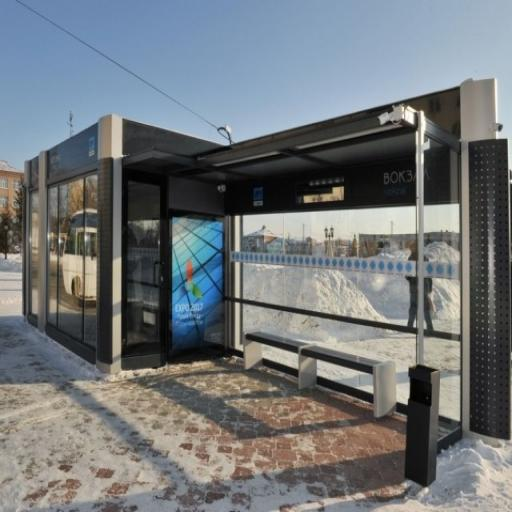bicycle: (23, 79, 512, 446)
ramp: (405, 364, 440, 488)
